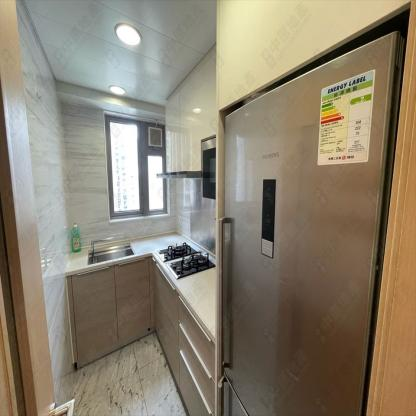Cupboard: (67, 256, 216, 415), (165, 51, 216, 172)
Exhaust Fan: (147, 125, 163, 148)
Exhaust Hood: (157, 170, 202, 178)
Faucet: (89, 236, 114, 253)
Fridge: (219, 53, 401, 413)
Microwave: (201, 136, 216, 198)
Sink: (88, 244, 133, 263)
Stove: (157, 242, 215, 279)
